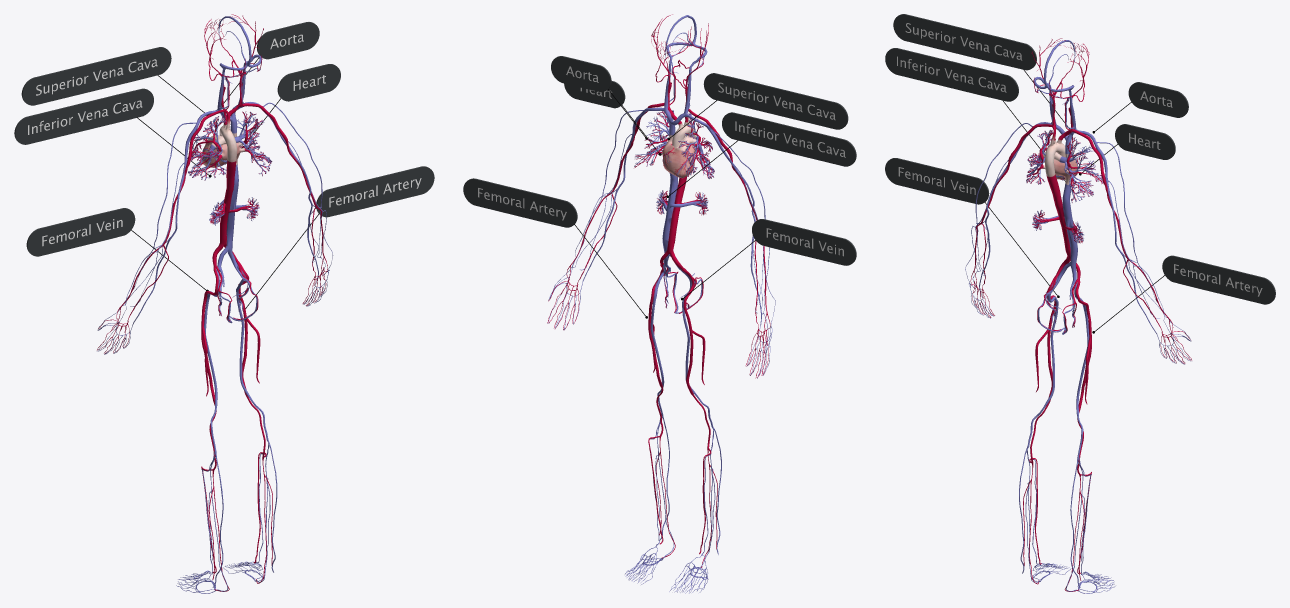
Rendered from circulatory system.glb.
3 renders of one model, left to right at view 1: azimuth 30°, elevation 25°; view 2: azimuth 150°, elevation 25°; view 3: azimuth 330°, elevation 25°, orthographic. The views are drawn at different scales.
Visible parts, largest first — view 1: LabelGroup4_2, circulatory_system_0; view 2: LabelGroup4_2, circulatory_system_0; view 3: LabelGroup4_2, circulatory_system_0.
Part boxes in pixels (left/top/right/bottom): LabelGroup4_2: left=14, top=22, right=434, bottom=308; circulatory_system_0: left=97, top=14, right=333, bottom=593; LabelGroup4_2: left=463, top=56, right=856, bottom=318; circulatory_system_0: left=547, top=14, right=775, bottom=593; LabelGroup4_2: left=885, top=14, right=1275, bottom=333; circulatory_system_0: left=965, top=38, right=1191, bottom=593.
Bounding box in the file's own units: 1.34 × 1.77 × 0.2586.
Materials: 4 (1 with a texture image).
